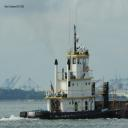tugboat: (20, 4, 127, 123)
